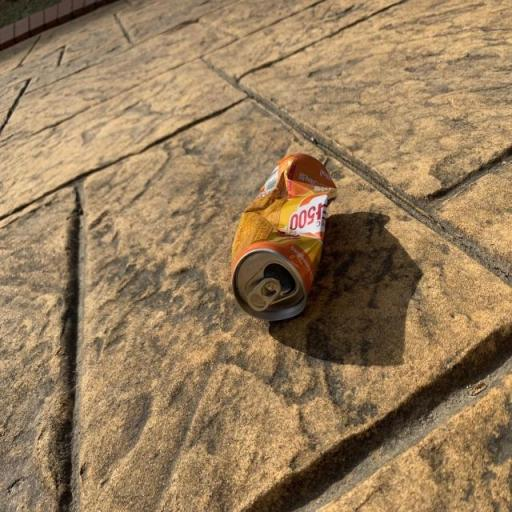metal: (214, 136, 344, 361)
